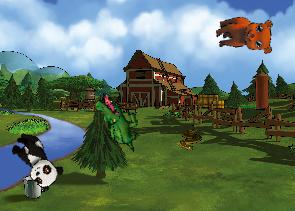bear: (213, 12, 276, 61)
crocodile: (83, 90, 152, 153)
panda: (4, 127, 67, 193)
